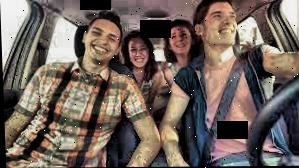seatbelt: (195, 37, 254, 166)
